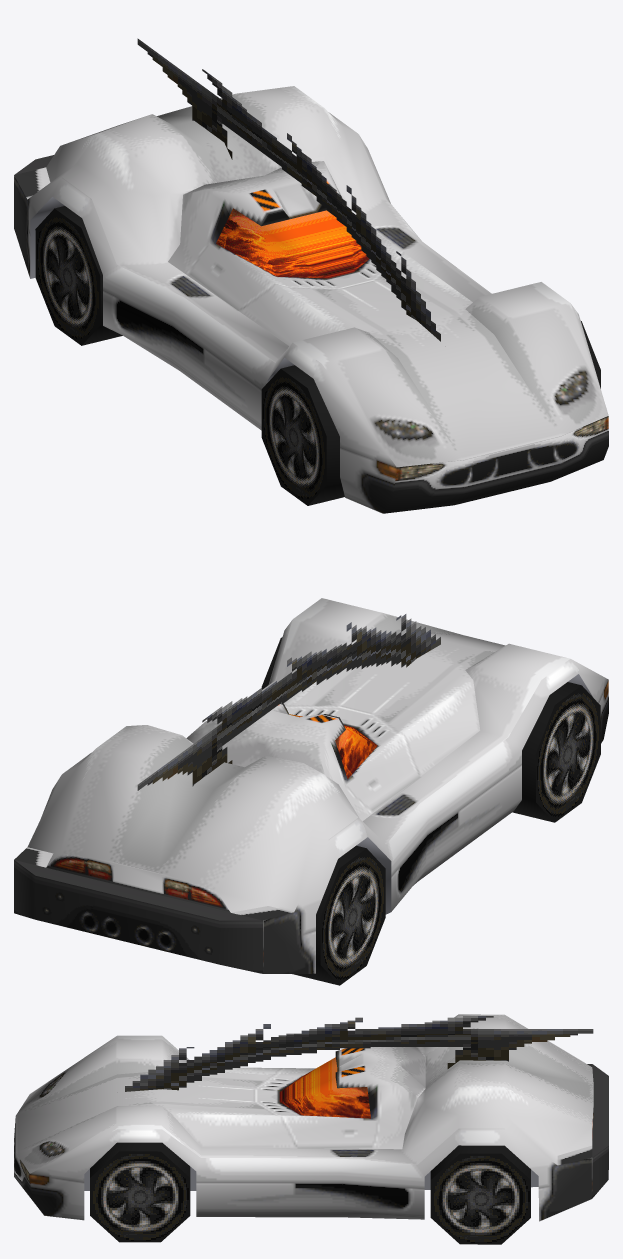
File: EAGWHIE.obj
The picture shows the model from 3 angles, top to bottom: view 1: azimuth 30°, elevation 25°; view 2: azimuth 150°, elevation 25°; view 3: azimuth 270°, elevation 25°; orthographic projection. The views are drawn at different scales.
Visible parts, largest first — view 1: EAGWHIE.DAT, WHEEL.DAT.003, WHEEL.DAT.001; view 2: EAGWHIE.DAT, WHEEL.DAT.003, WHEEL.DAT.001; view 3: EAGWHIE.DAT, WHEEL.DAT.002, WHEEL.DAT.
Boxes of the visible parts, <box> form: EAGWHIE.DAT: <box>14,38,608,513</box>; WHEEL.DAT.003: <box>261,365,344,505</box>; WHEEL.DAT.001: <box>35,206,122,345</box>; EAGWHIE.DAT: <box>14,598,608,973</box>; WHEEL.DAT.003: <box>512,682,600,822</box>; WHEEL.DAT.001: <box>292,845,385,985</box>; EAGWHIE.DAT: <box>14,1014,608,1221</box>; WHEEL.DAT.002: <box>90,1142,190,1242</box>; WHEEL.DAT: <box>430,1145,530,1244</box>.
Size of the model in its own units: 0.3614 by 0.2713 by 0.8365.
9 materials, 9 textured.
